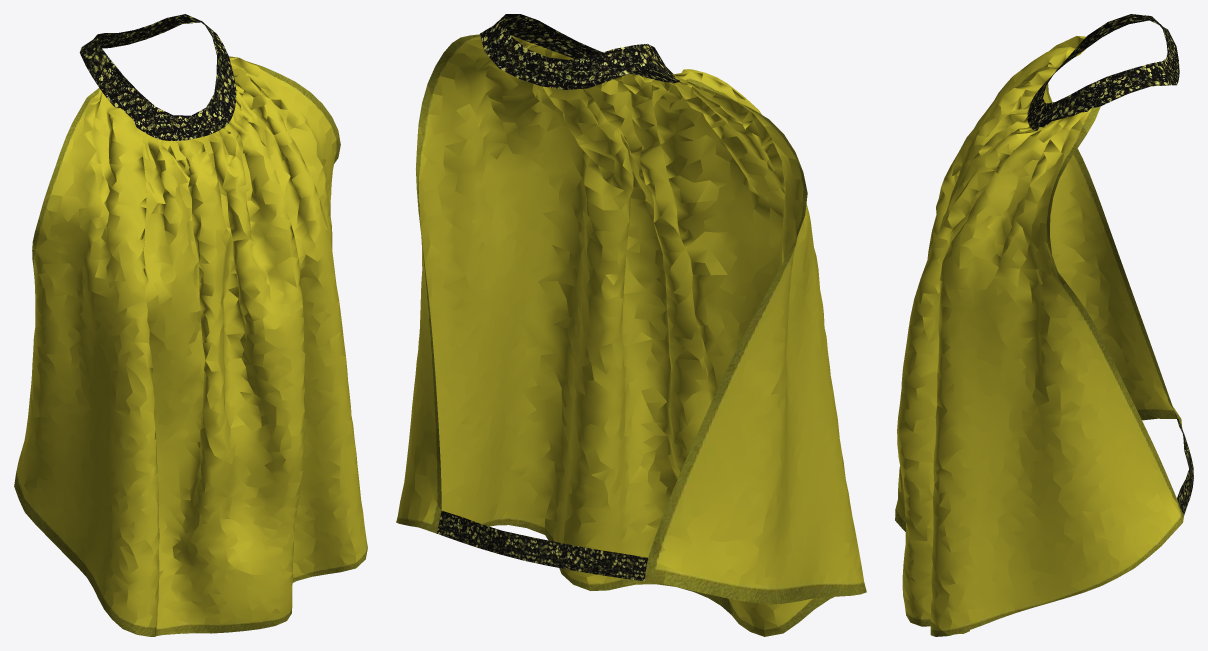
The model's file is elvs-disco-top2.glb.
3 views of the same model, side by side, from view 1: azimuth 30°, elevation 25°; view 2: azimuth 150°, elevation 25°; view 3: azimuth 270°, elevation 25° (orthographic). The views are drawn at different scales.
Parts seen in each view (by area): view 1: disco top2; view 2: disco top2; view 3: disco top2.
Boxes of the visible parts, x1,y1,x2,y2 form: disco top2: [14, 14, 367, 636]; disco top2: [396, 14, 866, 636]; disco top2: [895, 14, 1193, 636].
Size of the model in its own units: 33.73 by 55.75 by 26.55.
1 material, 1 textured.
